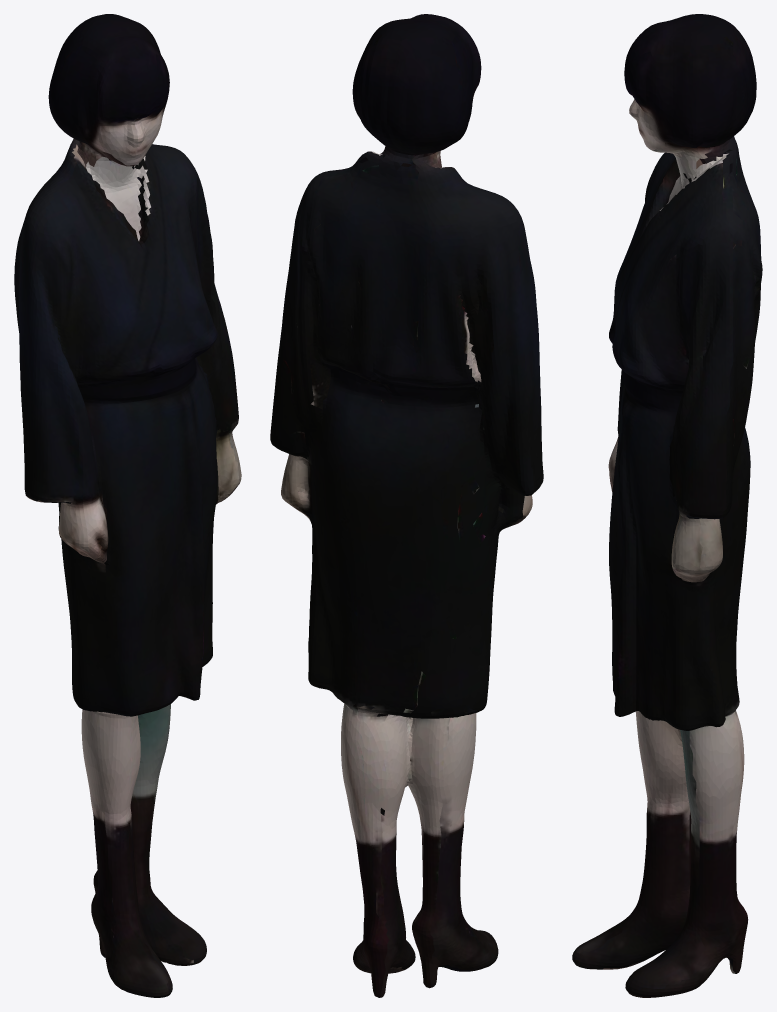
The model's file is garak_doll1.glb.
The picture shows the model from 3 angles, left to right: view 1: azimuth 30°, elevation 25°; view 2: azimuth 150°, elevation 25°; view 3: azimuth 270°, elevation 25°; orthographic projection. The views are drawn at different scales.
Parts seen in each view (by area): view 1: doll1.obj; view 2: doll1.obj; view 3: doll1.obj.
Boxes of the visible parts, bbox=[...] form: doll1.obj: bbox=[14, 14, 241, 997]; doll1.obj: bbox=[270, 14, 543, 997]; doll1.obj: bbox=[572, 14, 762, 997].
Size of the model in its own units: 0.5066 by 1.97 by 0.3583.
1 material, 1 textured.
